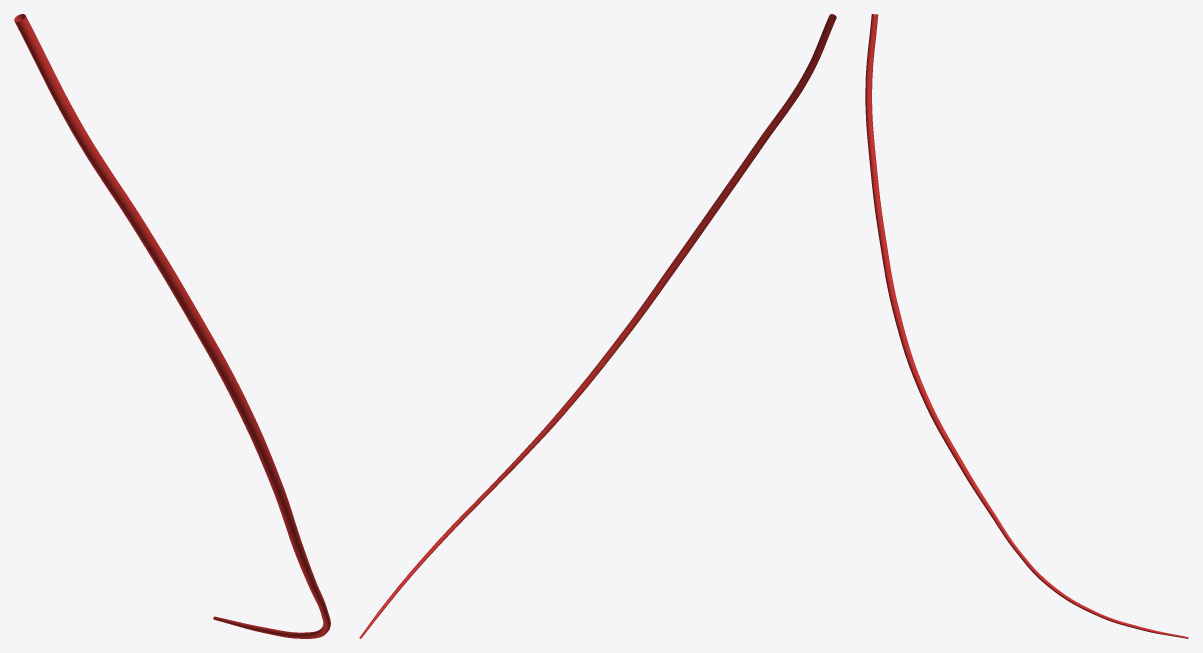
File: circulatorio-musculophrenic-artery-l.glb
3 views of the same model, side by side, from view 1: azimuth 30°, elevation 25°; view 2: azimuth 150°, elevation 25°; view 3: azimuth 270°, elevation 25° (orthographic). The views are drawn at different scales.
Parts seen in each view (by area): view 1: Musculophrenic artery.l; view 2: Musculophrenic artery.l; view 3: Musculophrenic artery.l.
Part boxes in pixels (left/top/right/bottom): Musculophrenic artery.l: left=14, top=14, right=330, bottom=638; Musculophrenic artery.l: left=359, top=14, right=836, bottom=638; Musculophrenic artery.l: left=865, top=14, right=1188, bottom=638.
Size of the model in its own units: 0.0997 by 0.1786 by 0.1049.
